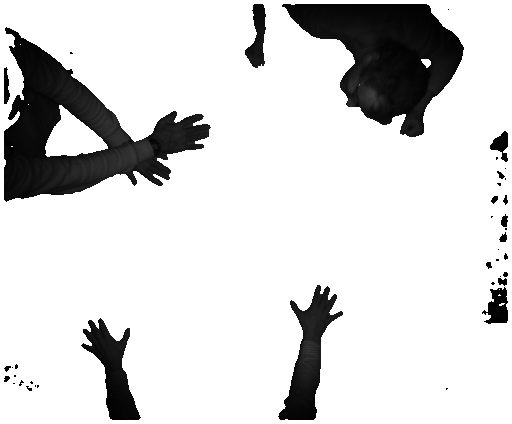fist: (240, 44, 271, 71), (398, 115, 423, 143)
hand: (154, 104, 215, 156), (288, 280, 343, 336), (80, 312, 135, 368)
